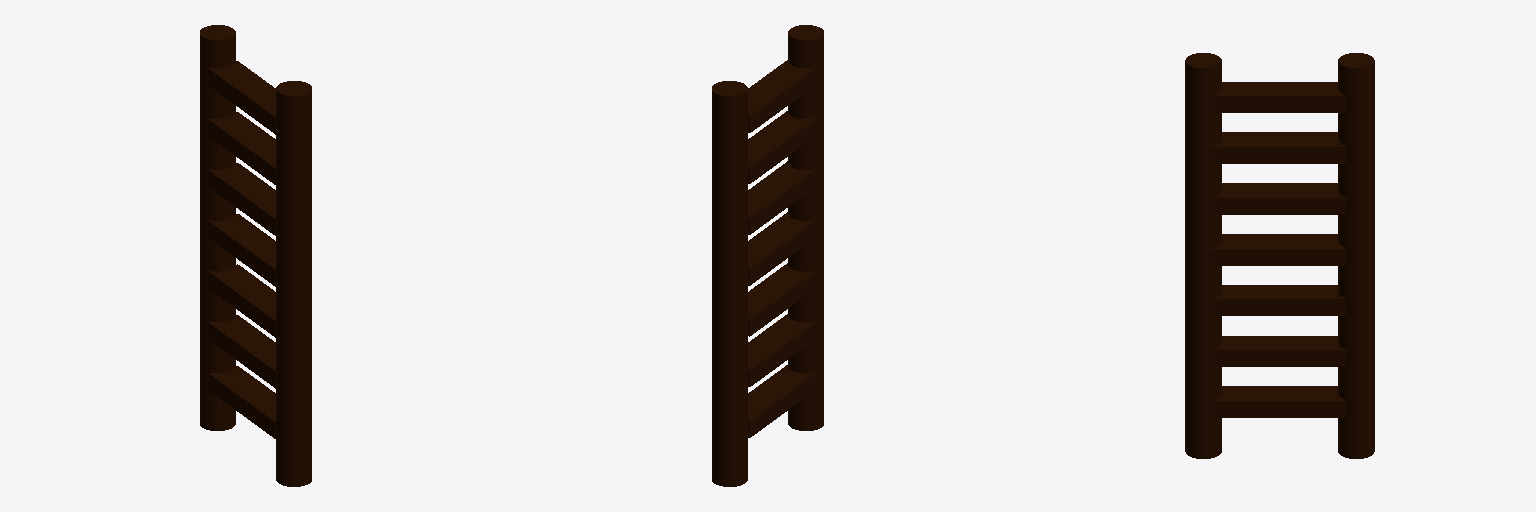
The model's file is ladder.obj.
3 renders of one model, left to right at view 1: azimuth 30°, elevation 25°; view 2: azimuth 150°, elevation 25°; view 3: azimuth 270°, elevation 25°, orthographic.
Parts seen in each view (by area): view 1: Cylinder, Cube_Cube.001; view 2: Cylinder, Cube_Cube.001; view 3: Cube_Cube.001, Cylinder.
Part boxes in pixels (left/top/right/bottom): Cylinder: left=200, top=25, right=311, bottom=486; Cube_Cube.001: left=208, top=61, right=275, bottom=438; Cylinder: left=712, top=25, right=823, bottom=486; Cube_Cube.001: left=748, top=60, right=817, bottom=437; Cube_Cube.001: left=1210, top=82, right=1345, bottom=417; Cylinder: left=1185, top=53, right=1374, bottom=458.
Size of the model in its own units: 0.9363 by 11.1 by 4.87.